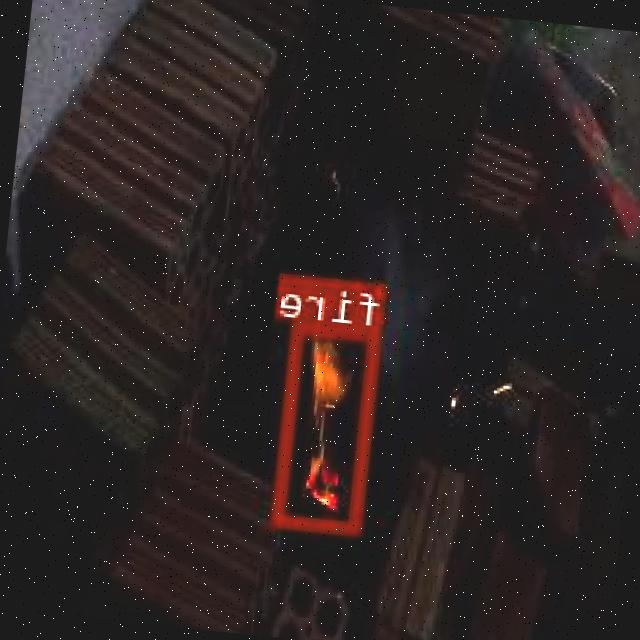fire: (274, 319, 384, 534)
